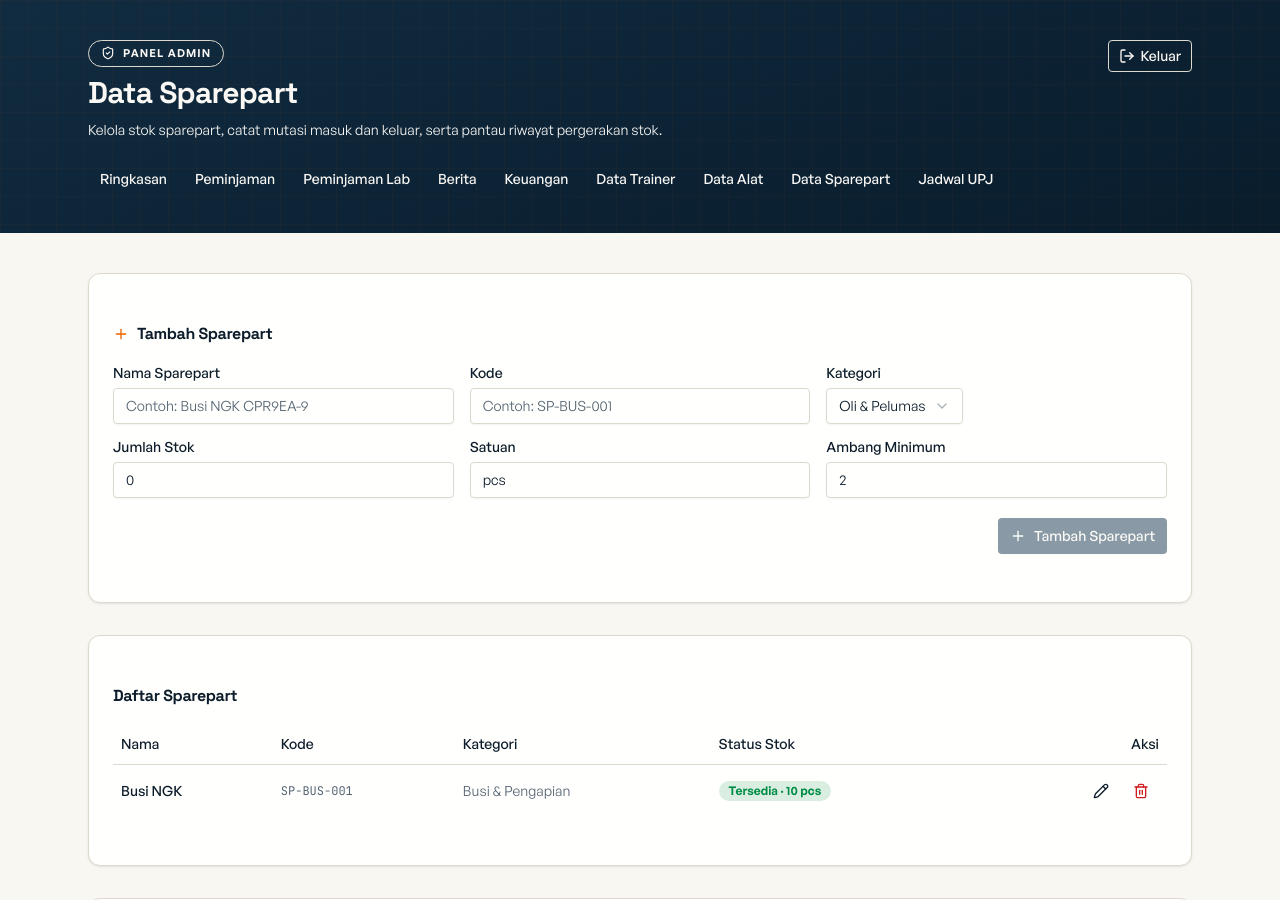
AdminSparepart CRUD › loads an existing sparepart into the form for editing
What coordinates should you click on to do the following:
click the button with test id "sparepart.edit_button.1"
I would click on:
 (1101, 791)
Its box is [1083,773,1119,809].
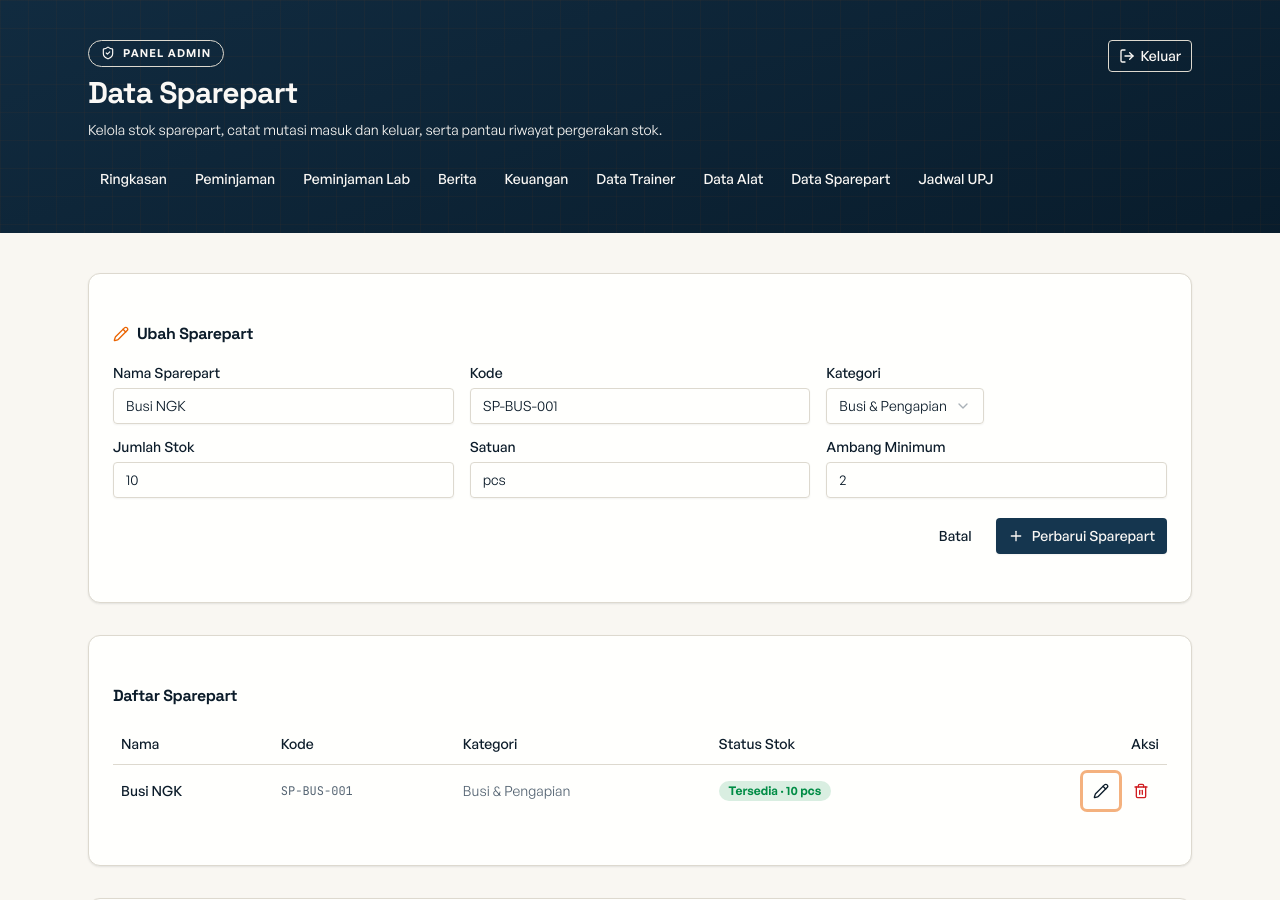
Result: the field with test id "sparepart.nama.input" holds "Busi NGK" at [113,388,454,424]
Result: the field with test id "sparepart.kode.input" holds "SP-BUS-001" at [470,388,810,424]
Result: the button "Perbarui Sparepart" is shown at [996,518,1167,554]
